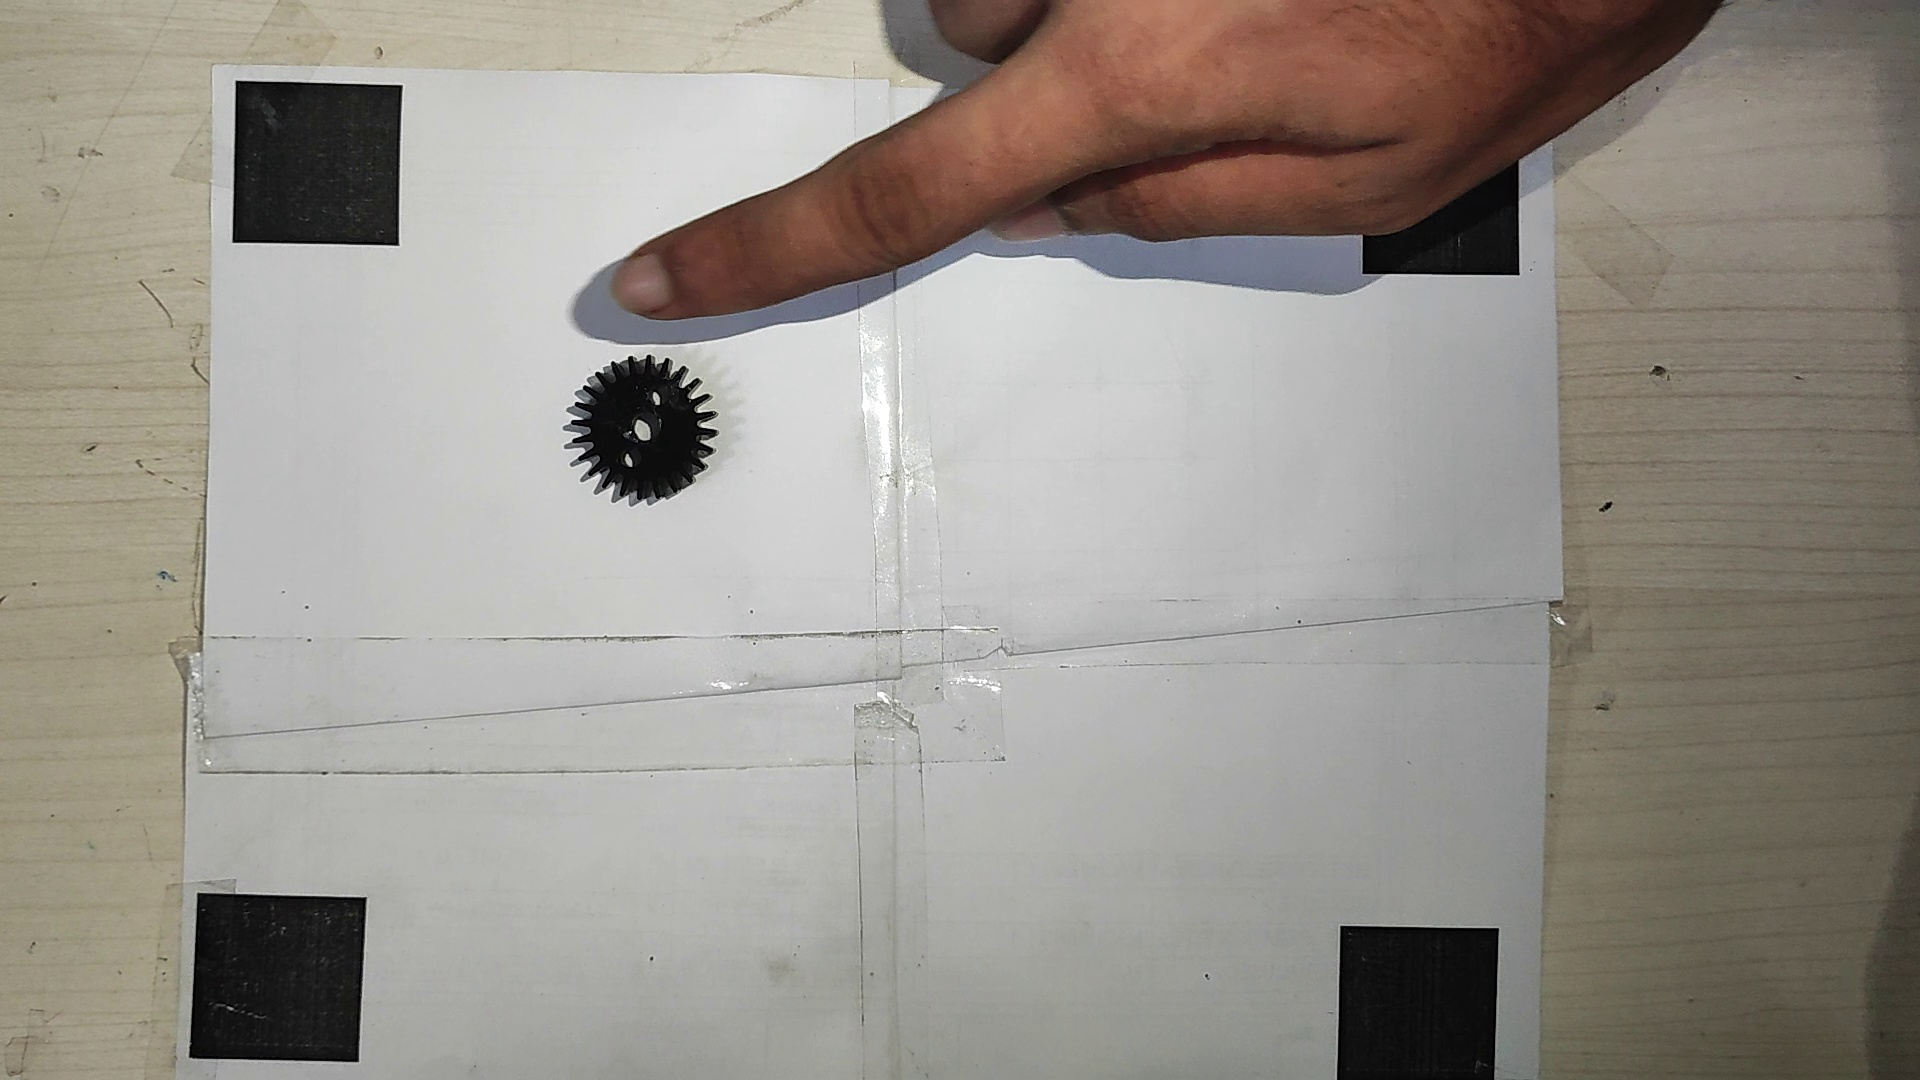Gear: (558, 351, 717, 506)
